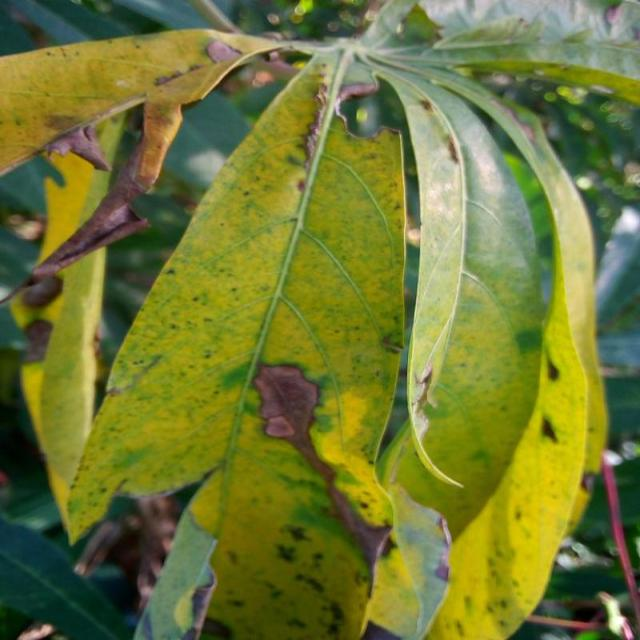cassava leaf: (64, 48, 410, 639)
